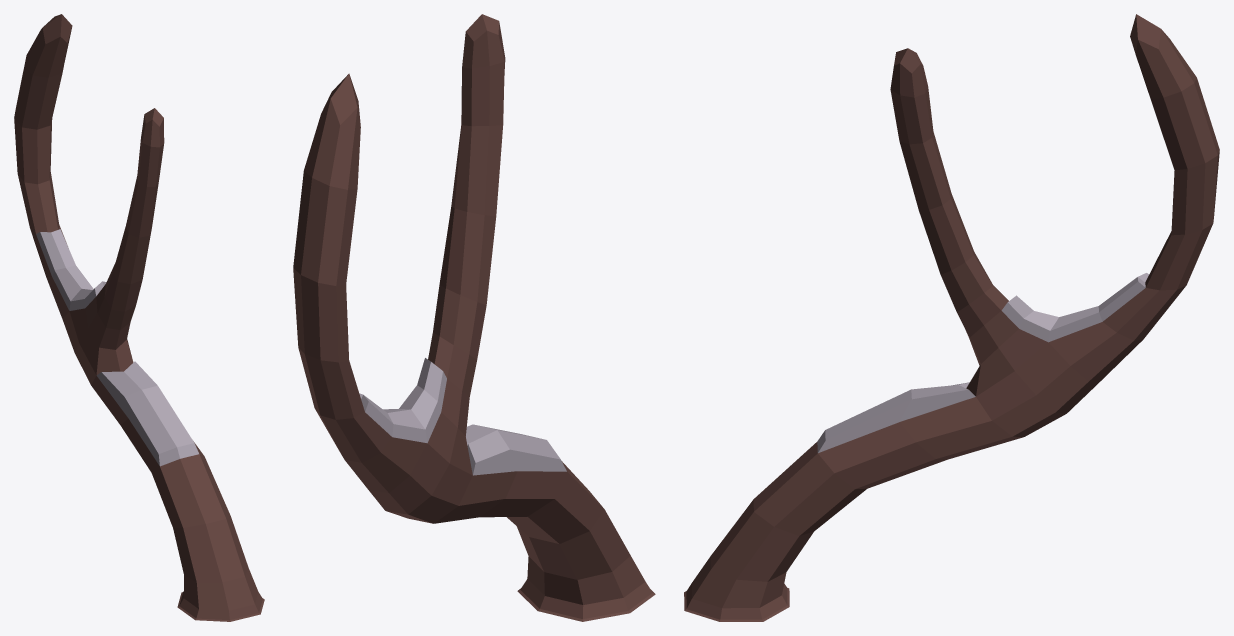
File: Willow_Dead_Snow_3.glb
3 views of the same model, side by side, from view 1: azimuth 30°, elevation 25°; view 2: azimuth 150°, elevation 25°; view 3: azimuth 270°, elevation 25° (orthographic). The views are drawn at different scales.
Parts seen in each view (by area): view 1: Willow_Dead_Snow_3_Cube.053; view 2: Willow_Dead_Snow_3_Cube.053; view 3: Willow_Dead_Snow_3_Cube.053.
Part boxes in pixels (left/top/right/bottom): Willow_Dead_Snow_3_Cube.053: left=14, top=14, right=264, bottom=621; Willow_Dead_Snow_3_Cube.053: left=293, top=14, right=655, bottom=621; Willow_Dead_Snow_3_Cube.053: left=684, top=14, right=1219, bottom=621.
Bounding box in the file's own units: 0.3108 × 1.91 × 1.58.
